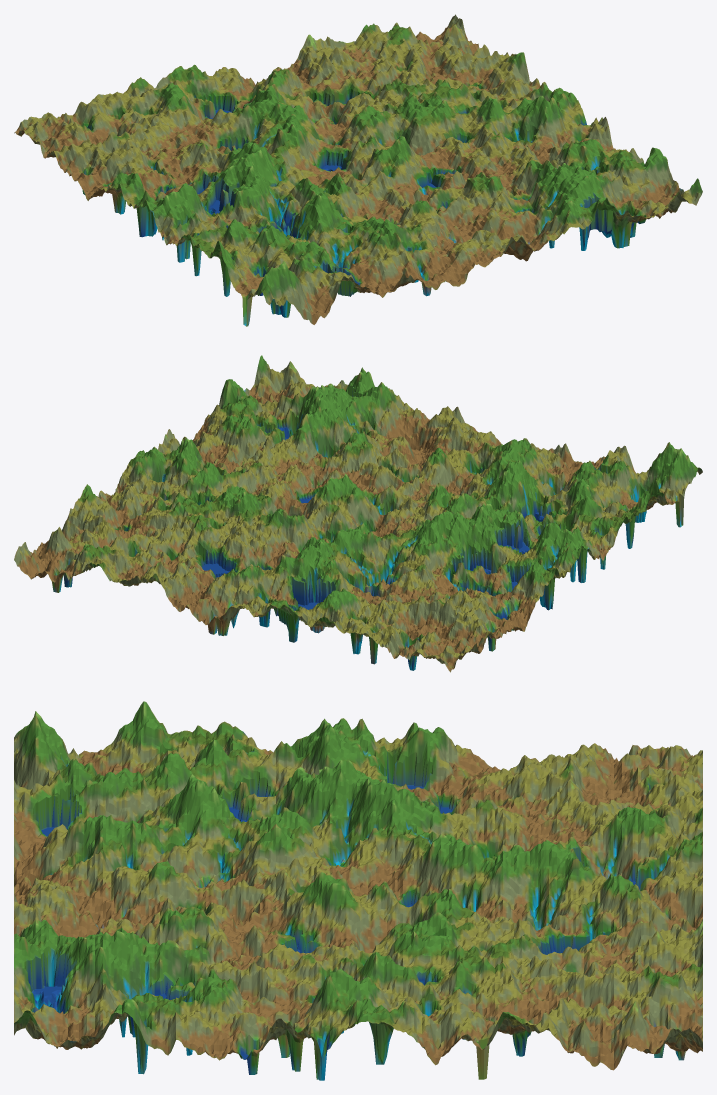
The model's file is landscape_FOREST_v1.obj.
The picture shows the model from 3 angles, top to bottom: view 1: azimuth 30°, elevation 25°; view 2: azimuth 150°, elevation 25°; view 3: azimuth 270°, elevation 25°; orthographic projection. The views are drawn at different scales.
Parts seen in each view (by area): view 1: terrain_FOREST; view 2: terrain_FOREST; view 3: terrain_FOREST.
Part boxes in pixels (left/top/right/bottom): terrain_FOREST: left=14, top=14, right=702, bottom=326; terrain_FOREST: left=14, top=355, right=702, bottom=672; terrain_FOREST: left=14, top=701, right=702, bottom=1080.
Size of the model in its own units: 255 by 39.64 by 255.
Materials: 1 (1 with a texture image).
